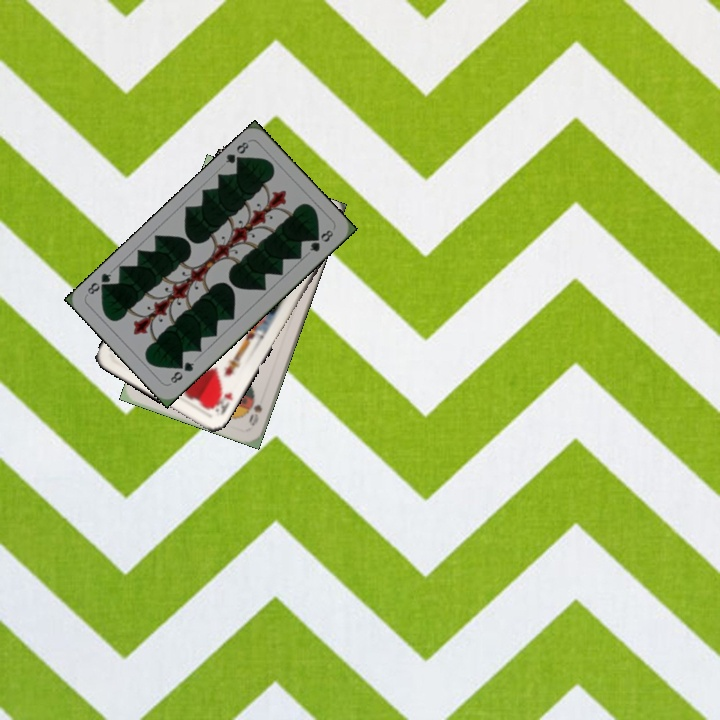G8: (221, 138, 251, 169), (166, 357, 197, 386)
HK: (207, 387, 236, 418)
SO: (245, 400, 265, 429)
